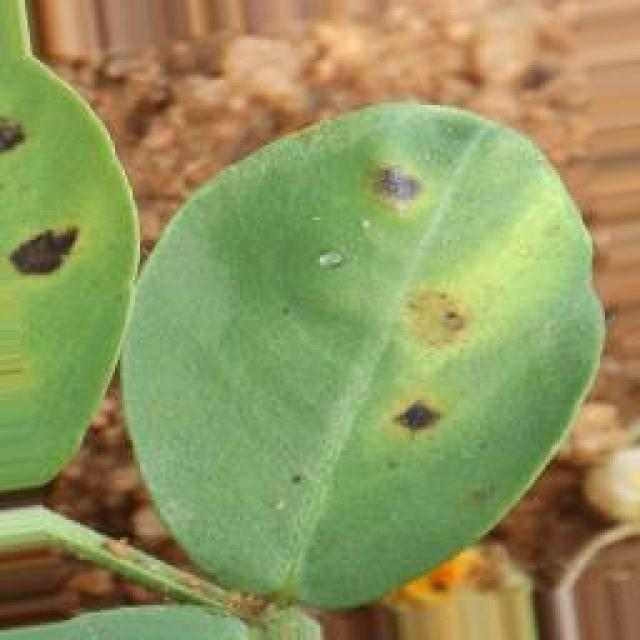Sigatoka: (331, 366, 472, 463), (2, 196, 120, 302), (392, 269, 494, 365), (358, 137, 438, 240), (0, 90, 43, 172), (454, 455, 496, 514)
